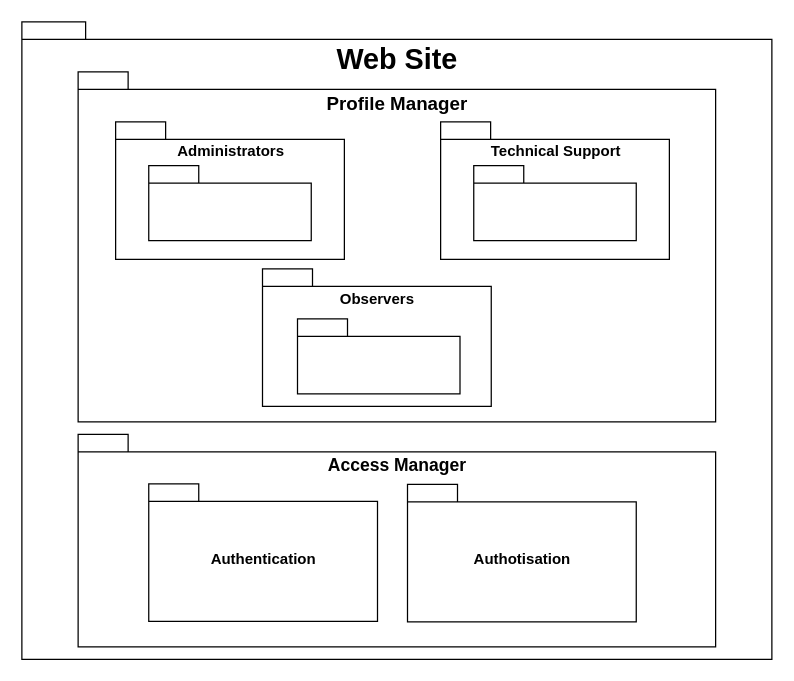
Image size: 794x681. Some labels were removed from this diagram. The centre of each missing label's shape, as x and y in pixels:
"Incident Record" belongs at [378,356].
"Signals" belongs at [554,202].
"System Maintenance" belongs at [229,202].
